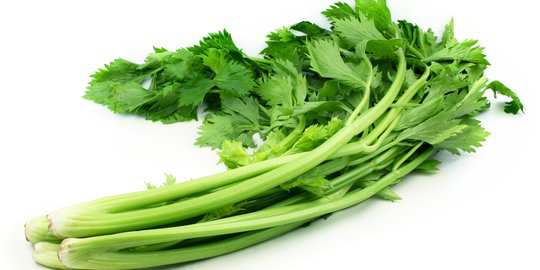Seledri: (34, 12, 522, 256)
